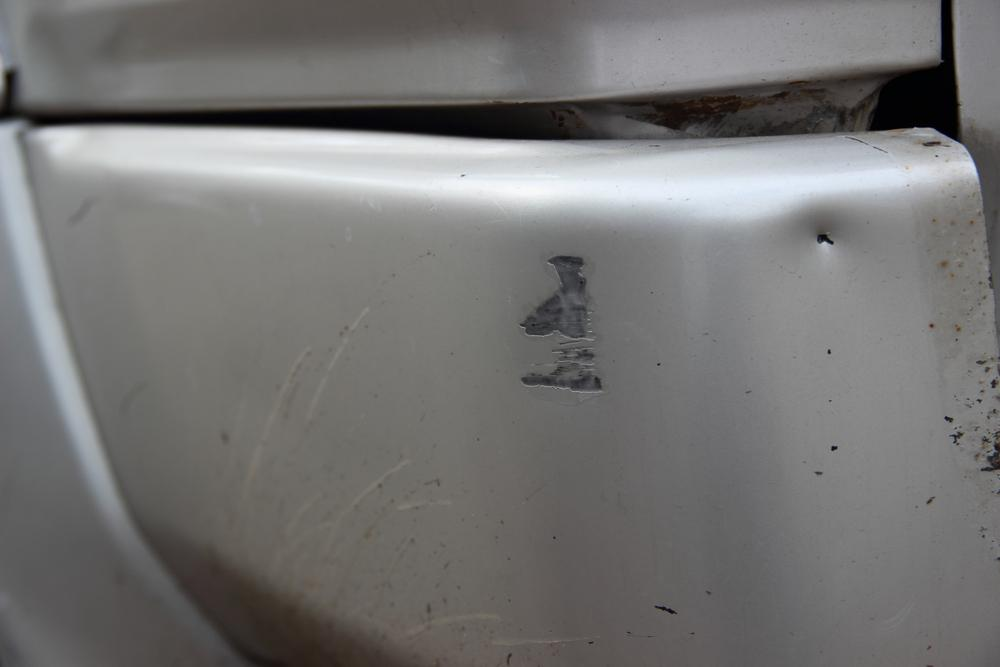dent: (781, 200, 872, 284)
scratch: (233, 305, 583, 667), (516, 252, 612, 403)
